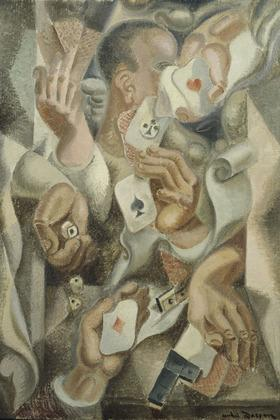person: (32, 18, 219, 255)
